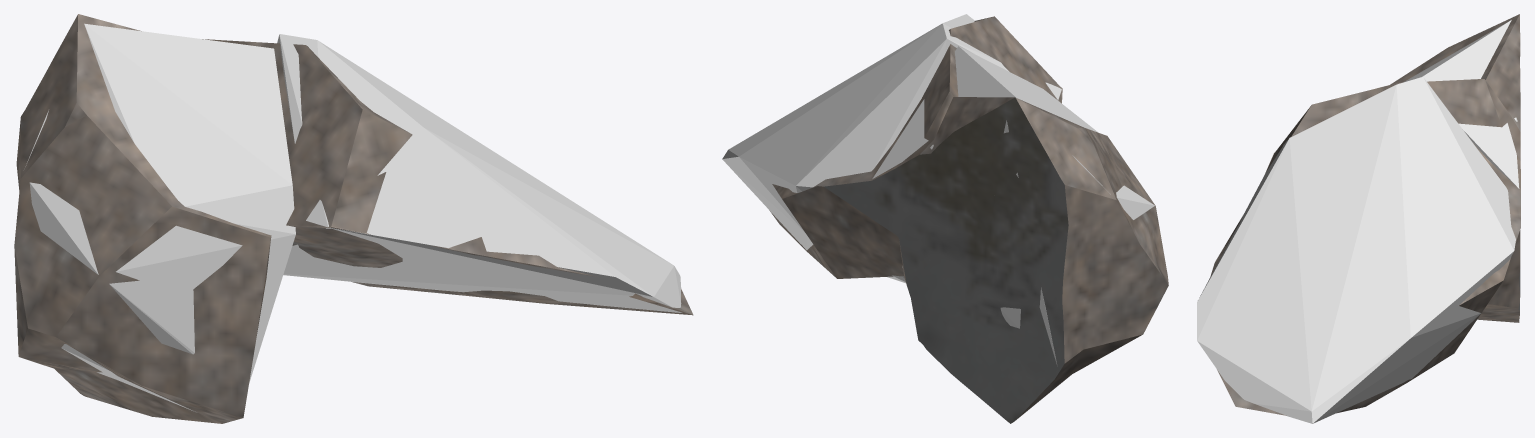
File: SM_Rock_04.fbx
3 renders of one model, left to right at view 1: azimuth 30°, elevation 25°; view 2: azimuth 150°, elevation 25°; view 3: azimuth 270°, elevation 25°, orthographic. The views are drawn at different scales.
Parts seen in each view (by area): view 1: SM_Rock_04_ConvexHulls, SM_Rock_04_LOD0; view 2: SM_Rock_04_LOD0, SM_Rock_04_ConvexHulls; view 3: SM_Rock_04_ConvexHulls, SM_Rock_04_LOD0.
Part boxes in pixels (x1,y1,x2,y2): SM_Rock_04_ConvexHulls: (25, 23, 681, 412); SM_Rock_04_LOD0: (14, 14, 693, 423); SM_Rock_04_LOD0: (769, 16, 1168, 423); SM_Rock_04_ConvexHulls: (722, 14, 1154, 366); SM_Rock_04_ConvexHulls: (1197, 20, 1519, 423); SM_Rock_04_LOD0: (1210, 14, 1520, 415).
Size of the model in its own units: 63.94 by 38.21 by 39.89.
